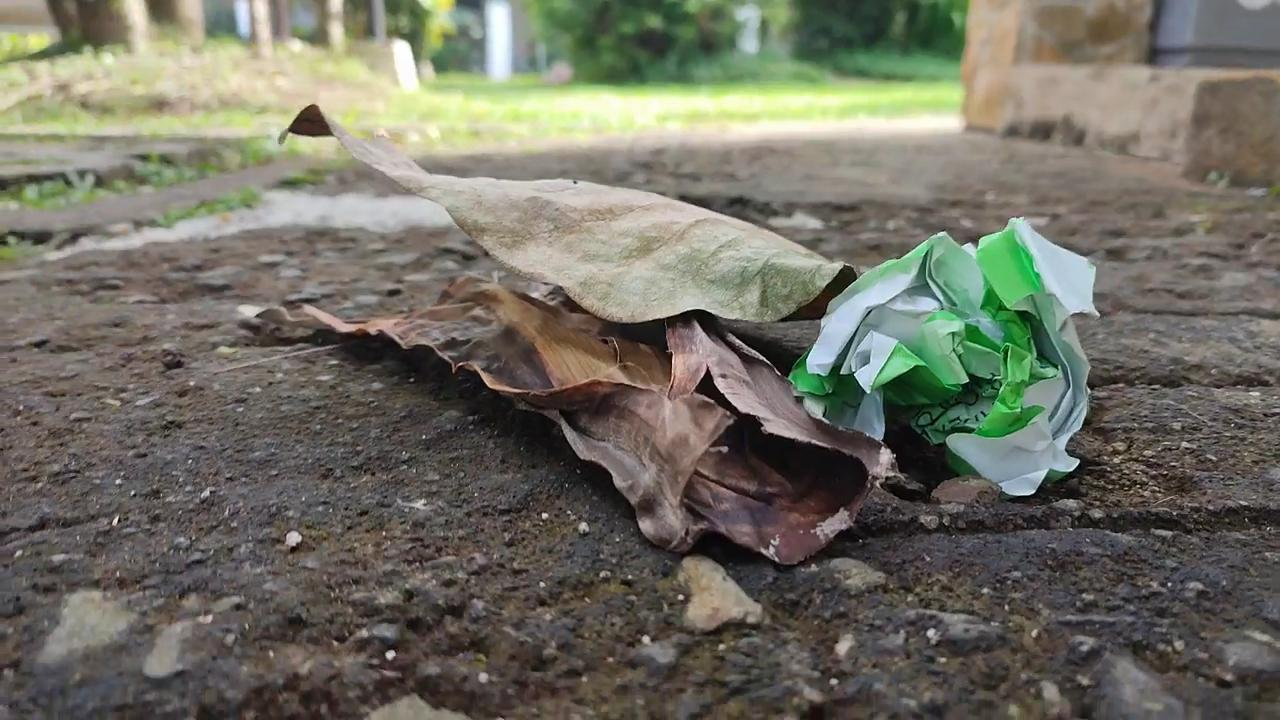Paper: (786, 201, 1108, 505)
